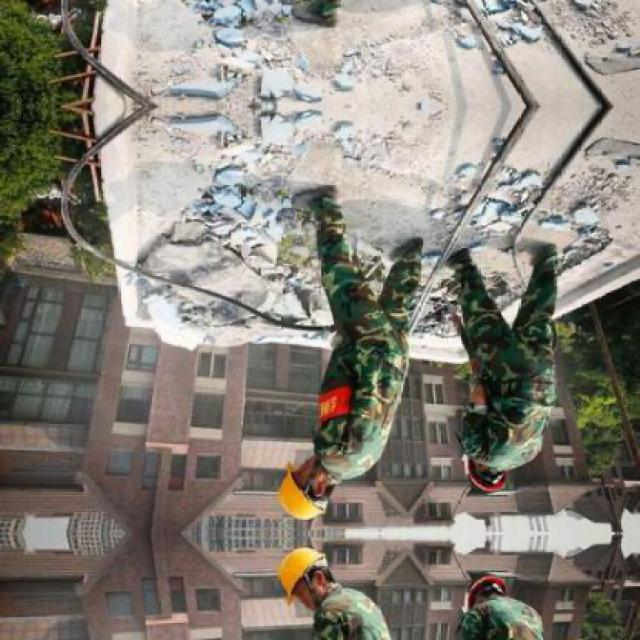con casco: (251, 417, 386, 545), (237, 538, 375, 634), (437, 553, 540, 620), (451, 448, 517, 495)
